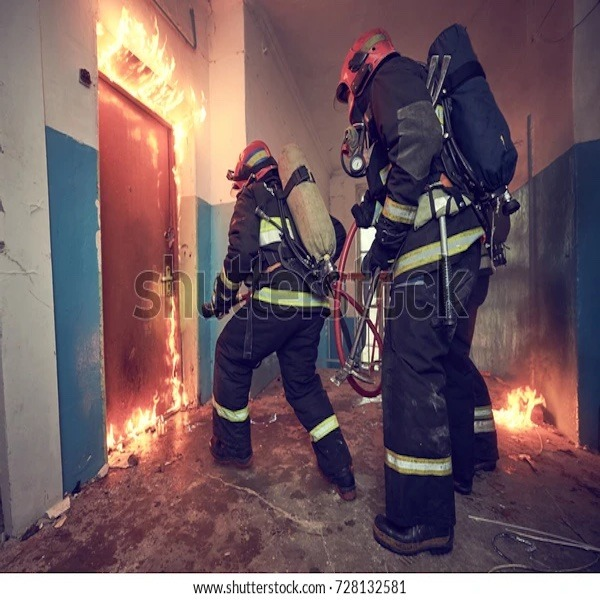fire: (102, 17, 205, 116), (173, 116, 191, 242), (500, 384, 548, 425), (111, 417, 161, 447)
